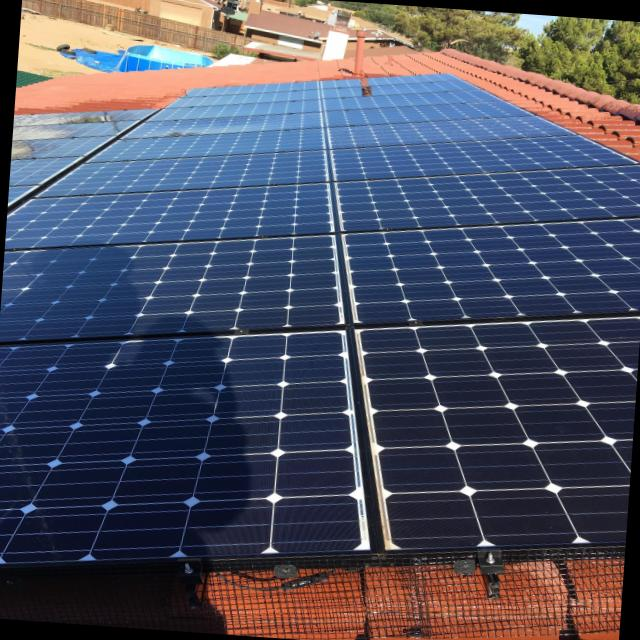no faulty: (0, 92, 640, 562)
